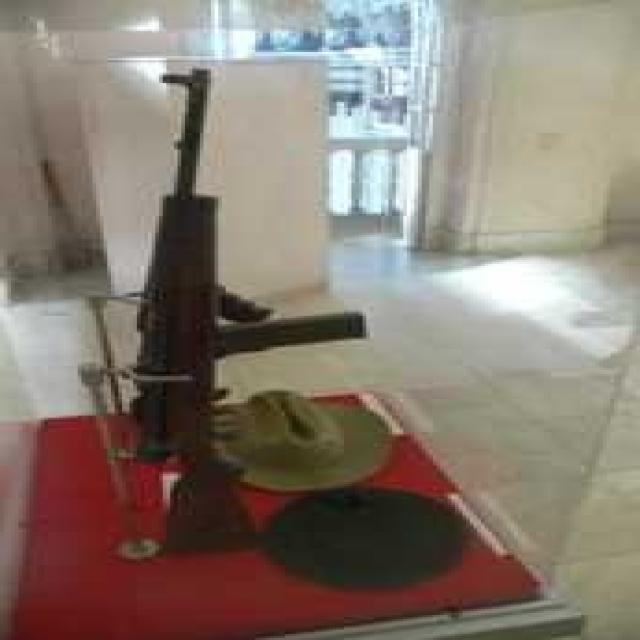heavyweapon: (94, 39, 401, 579)
